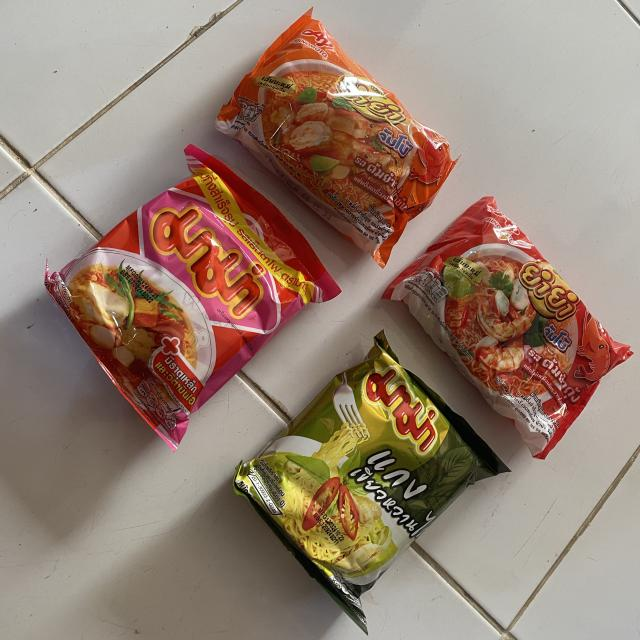plastik: (45, 145, 340, 450), (234, 331, 508, 632), (382, 198, 632, 459), (216, 9, 456, 266)
